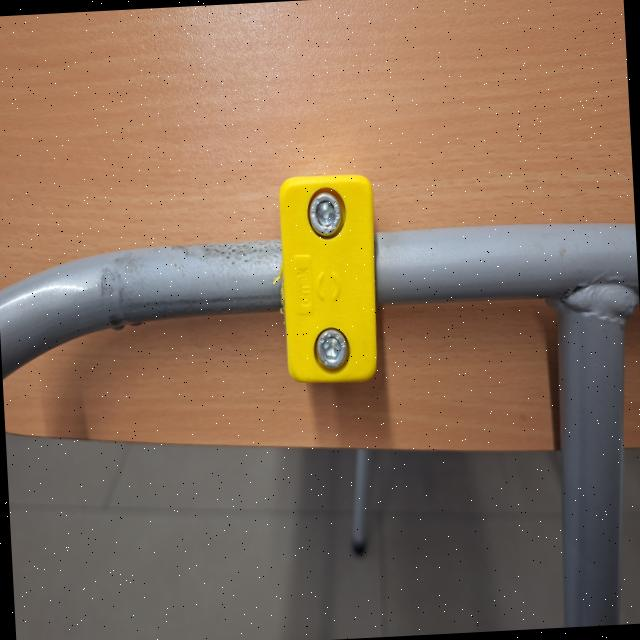Hex Socket Allen: (313, 326, 352, 373), (306, 192, 344, 238)
